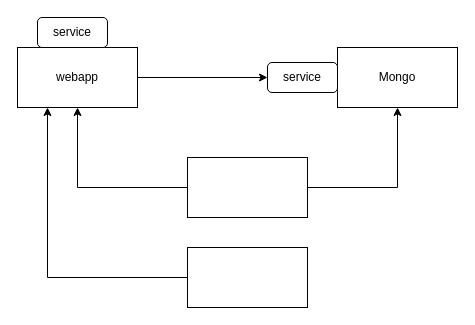
This 475x325 diagram has some shape labels left out. Here are the shapes that lost their labels. From the top down, the centre of each, then its label:
(247,187): Secret
(247,277): Configmap
